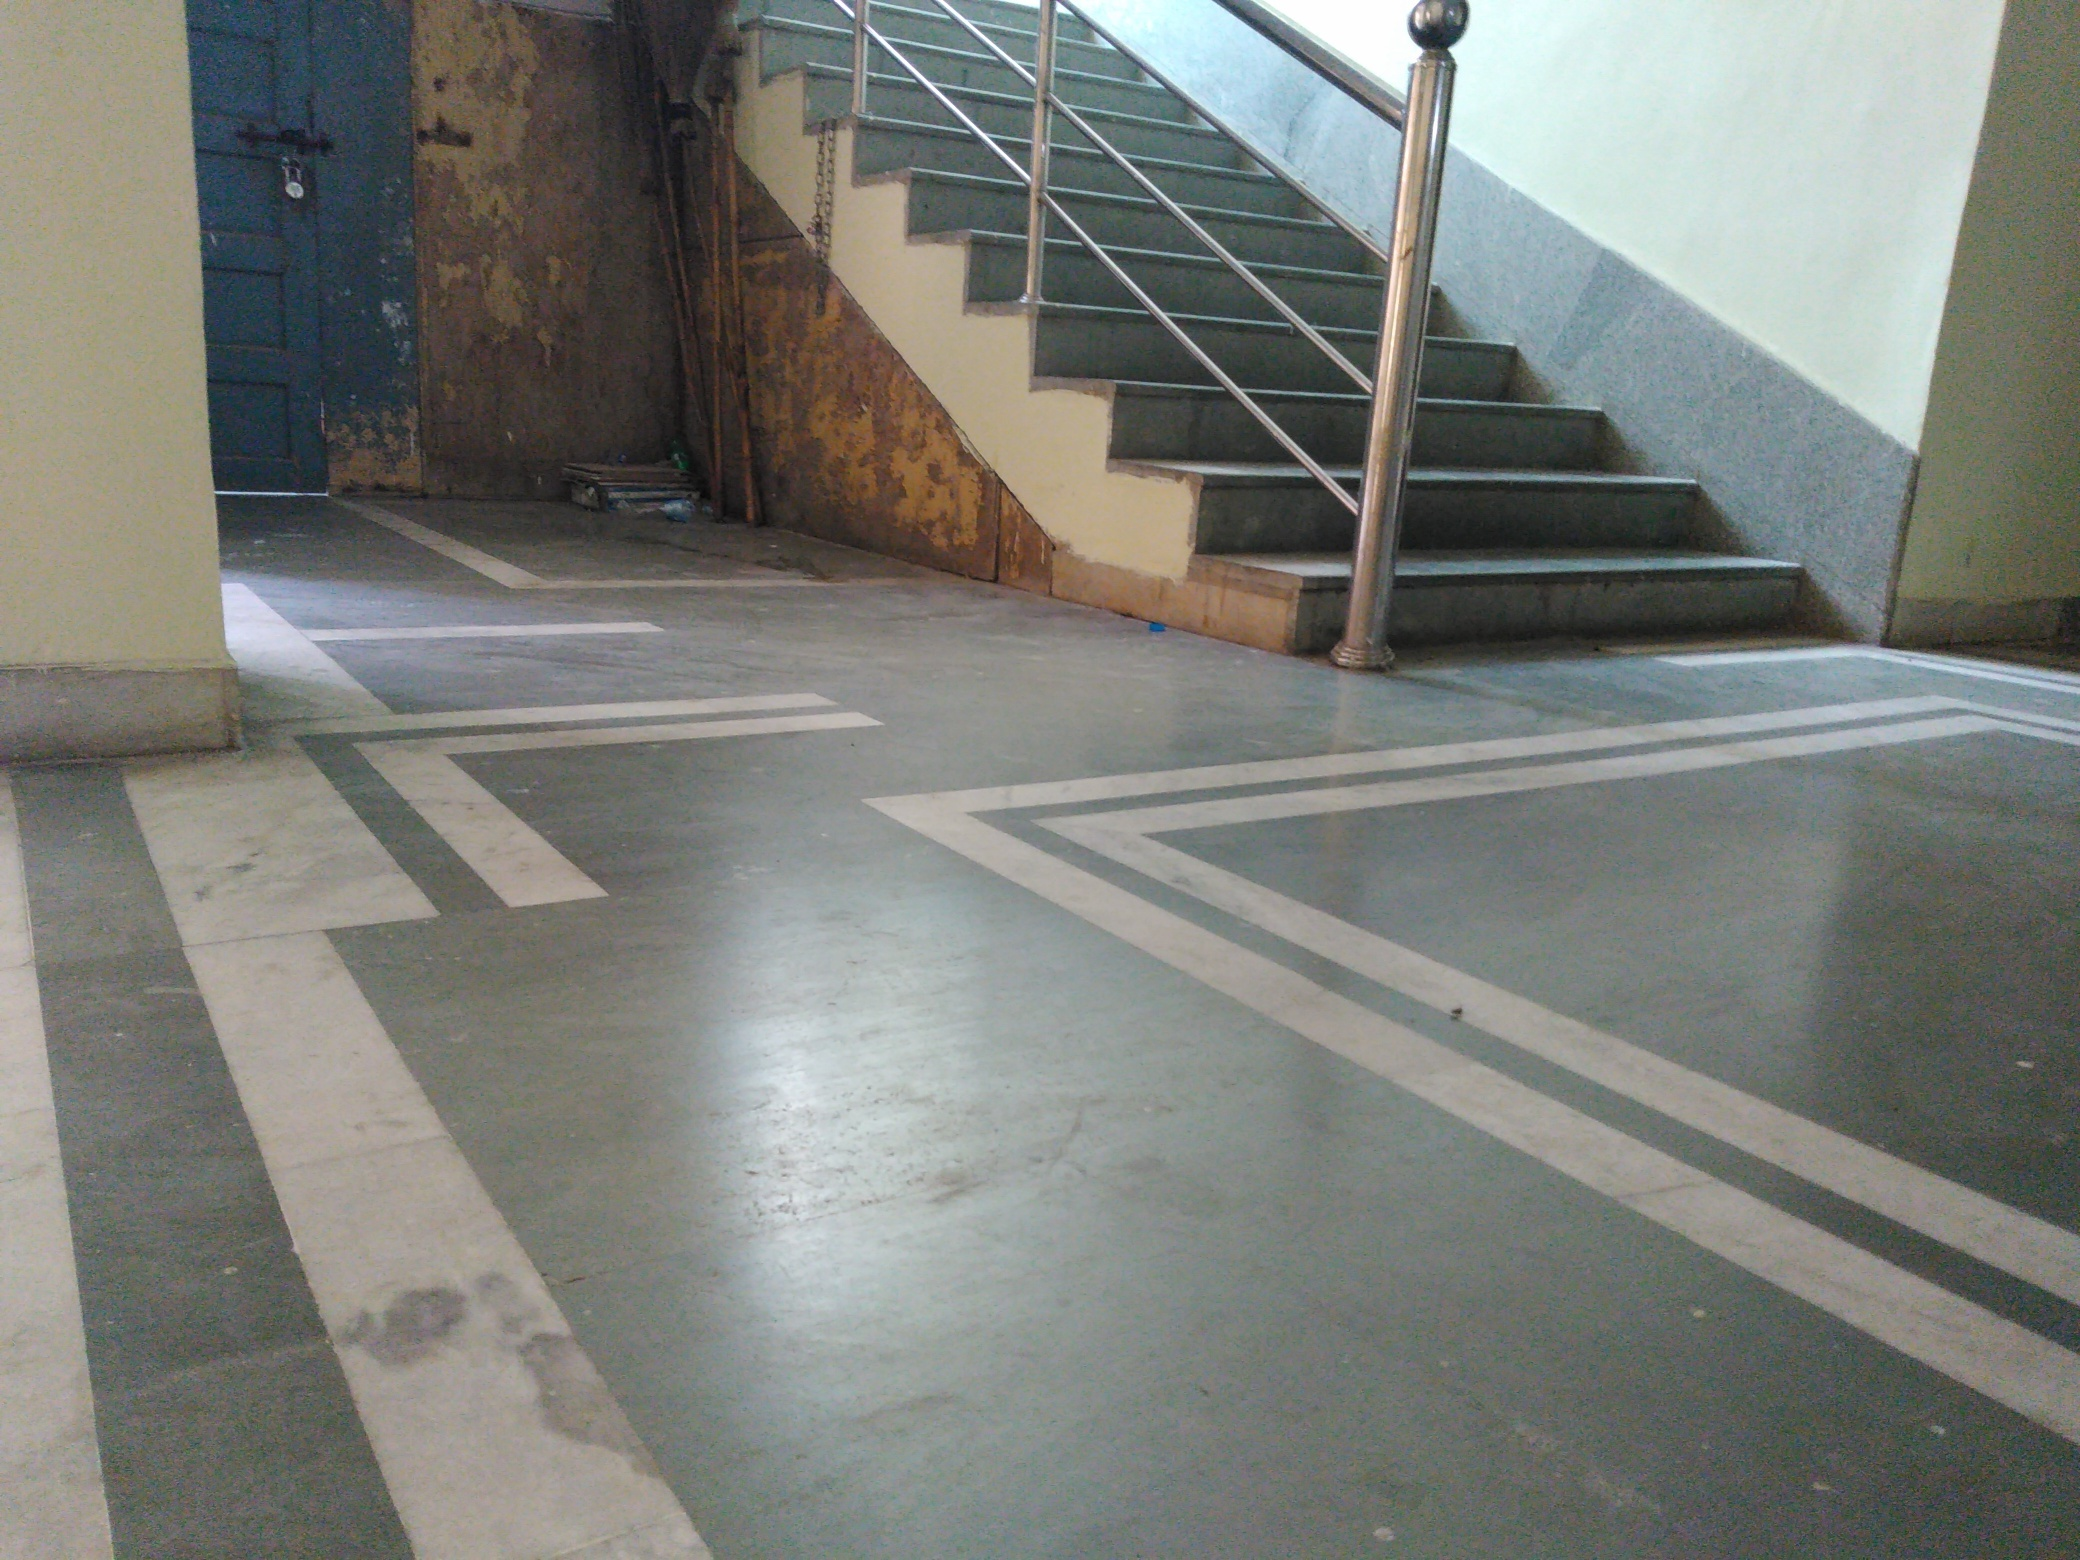stairs_up: (783, 28, 1844, 659)
